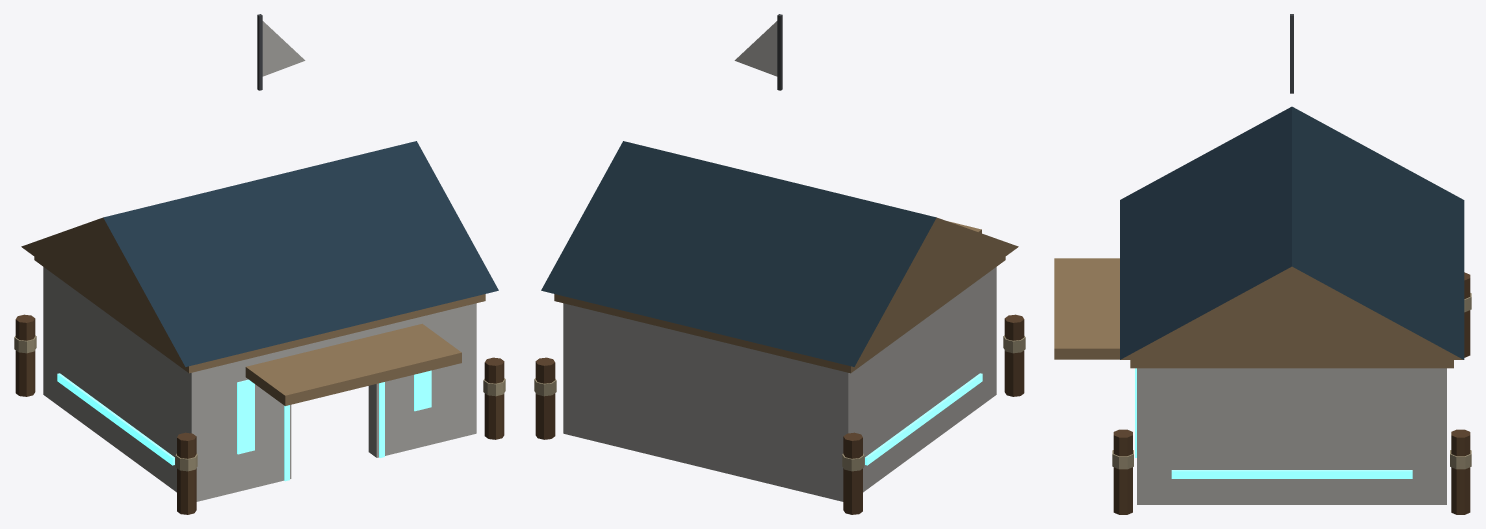
Rendered from shaddai_dist_ocean_home_b_v01.glb.
The picture shows the model from 3 angles, left to right: view 1: azimuth 30°, elevation 25°; view 2: azimuth 150°, elevation 25°; view 3: azimuth 270°, elevation 25°; orthographic projection. The views are drawn at different scales.
Parts seen in each view (by area): view 1: shaddai_dist_ocean_home_b; view 2: shaddai_dist_ocean_home_b; view 3: shaddai_dist_ocean_home_b.
Part boxes in pixels (<box>): shaddai_dist_ocean_home_b: <box>14,14,505,514</box>; shaddai_dist_ocean_home_b: <box>534,14,1025,514</box>; shaddai_dist_ocean_home_b: <box>1054,14,1471,514</box>.
Bounding box in the file's own units: 11.43 × 13.38 × 12.11.
